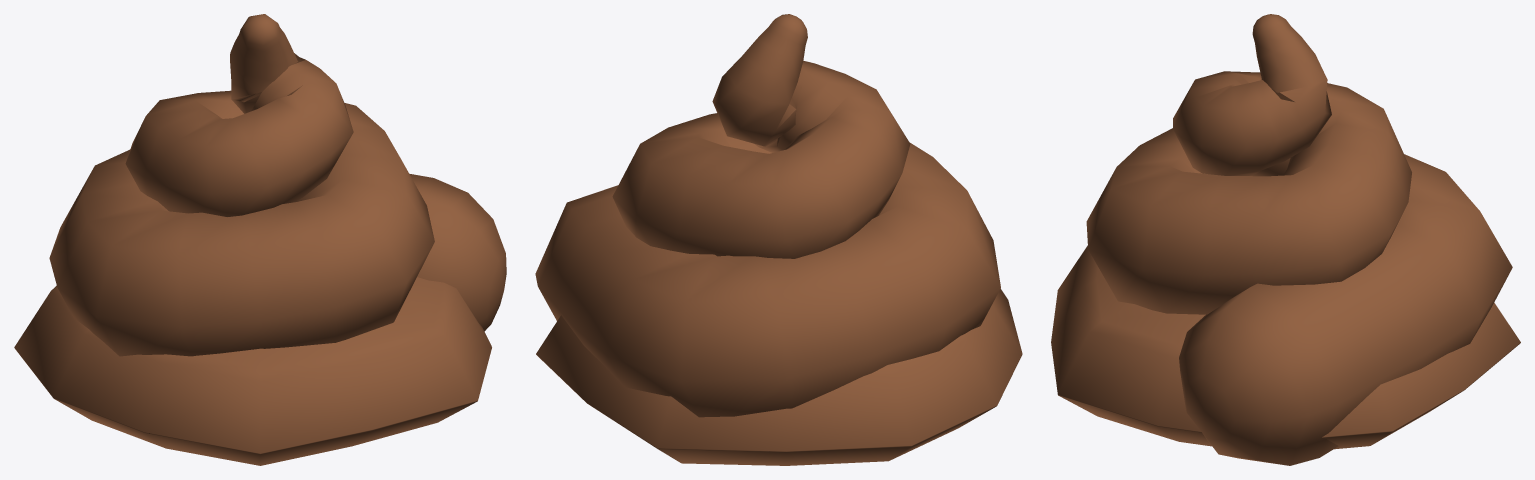
The model's file is item_poop.glb.
The picture shows the model from 3 angles, left to right: view 1: azimuth 30°, elevation 25°; view 2: azimuth 150°, elevation 25°; view 3: azimuth 270°, elevation 25°; orthographic projection. The views are drawn at different scales.
Visible parts, largest first — view 1: item_poop; view 2: item_poop; view 3: item_poop.
Part boxes in pixels (bbox=[...]): item_poop: bbox=[14, 14, 506, 465]; item_poop: bbox=[535, 14, 1022, 465]; item_poop: bbox=[1051, 14, 1520, 465].
Bounding box in the file's own units: 0.2879 × 0.2351 × 0.27.
